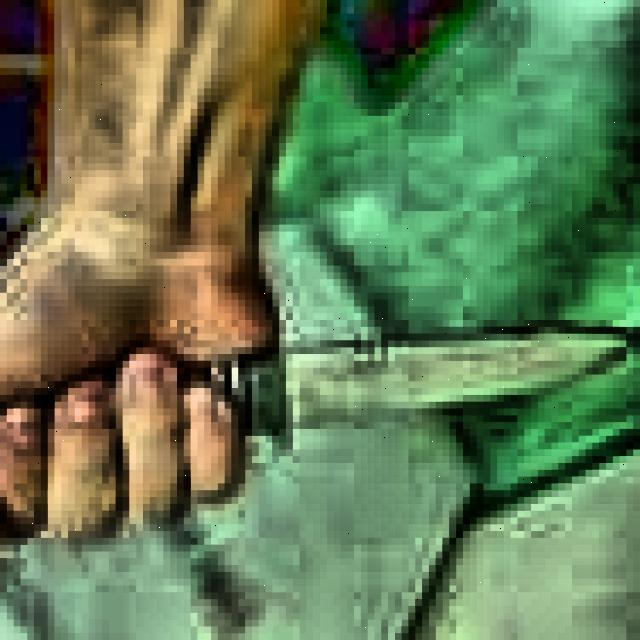knife: (182, 331, 640, 439)
